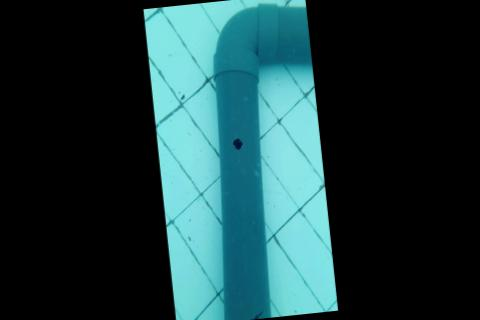kebocoran: (230, 134, 246, 153)
keretakan: (240, 310, 263, 320)
